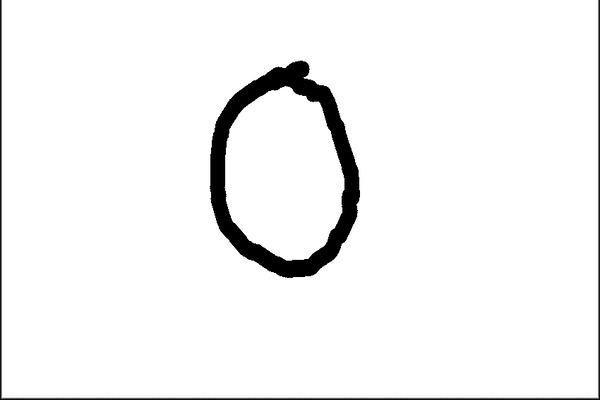O: (194, 51, 375, 280)
